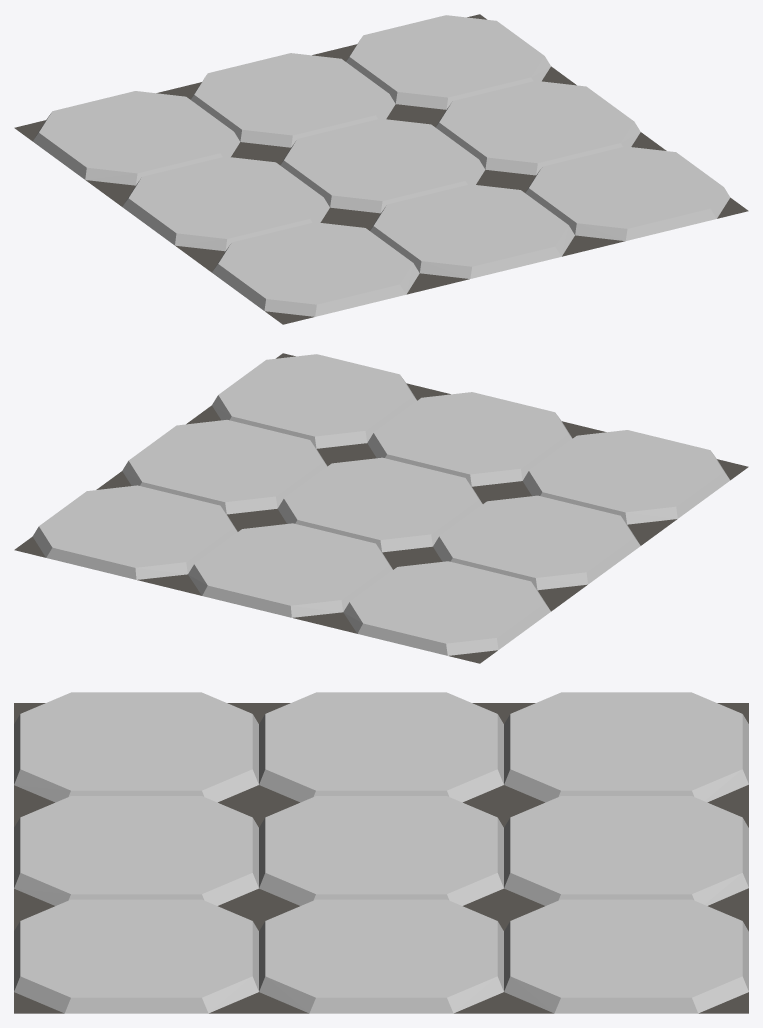
File: Service_floor.fbx
3 views of the same model, one above another, from view 1: azimuth 30°, elevation 25°; view 2: azimuth 150°, elevation 25°; view 3: azimuth 270°, elevation 25° (orthographic). The views are drawn at different scales.
Visible parts, largest first — view 1: Floor1.002; view 2: Floor1.002; view 3: Floor1.002.
Part boxes in pixels (x1,y1,x2,y2): Floor1.002: (14,14,748,324); Floor1.002: (14,353,748,663); Floor1.002: (14,692,748,1013).
Size of the model in its own units: 200 by 3.93 by 200.
